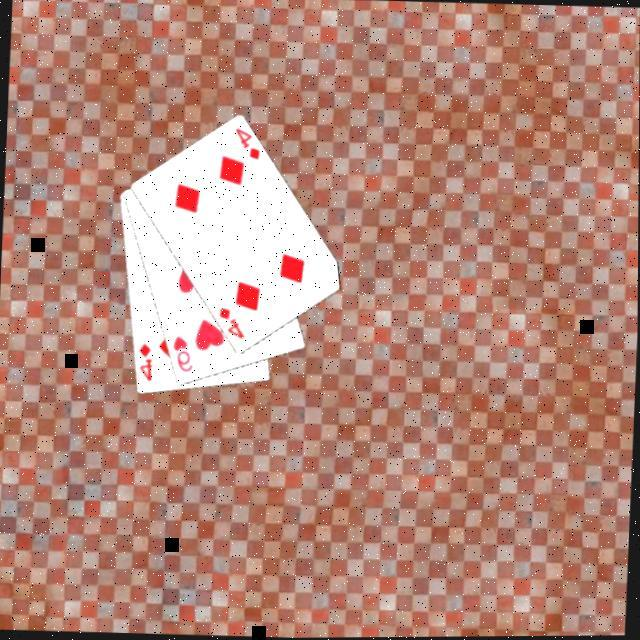4D: (213, 305, 246, 343), (228, 126, 261, 164), (133, 341, 154, 385)
6H: (167, 333, 194, 376)
